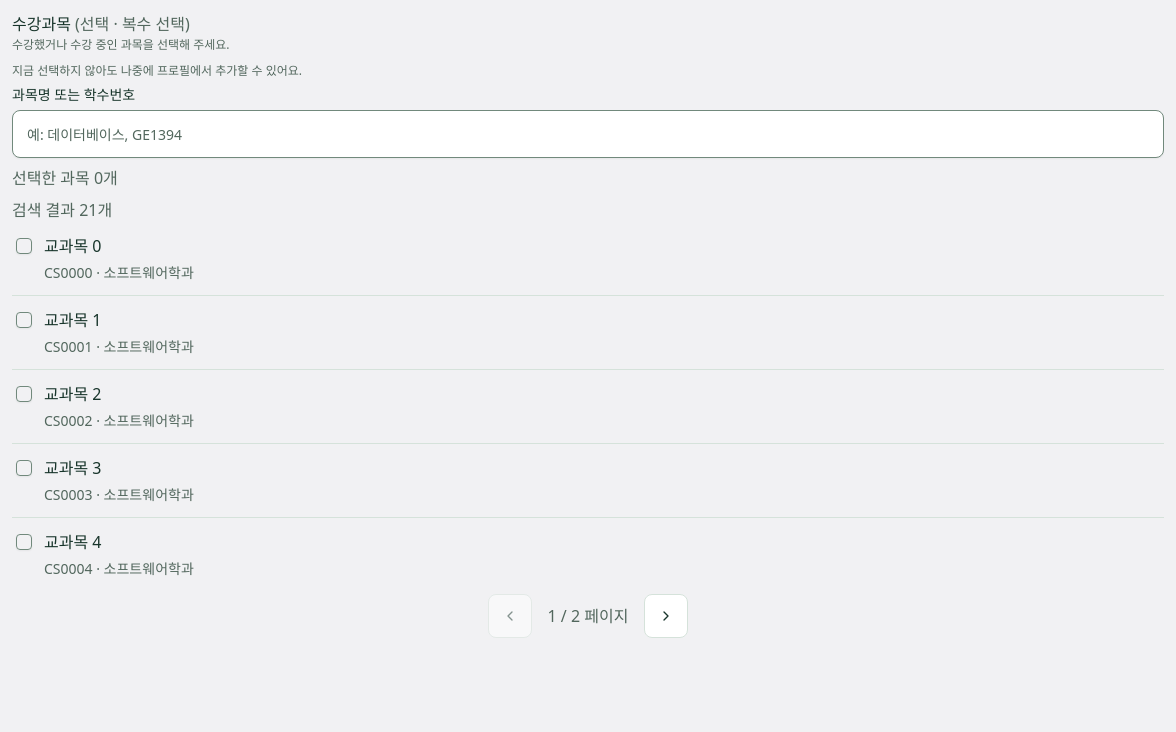
Test: course selection › keeps selection visible when search has no results
Click the checkbox named "교과목 0 (CS0000)" at (24,246), box [16, 238, 32, 254]
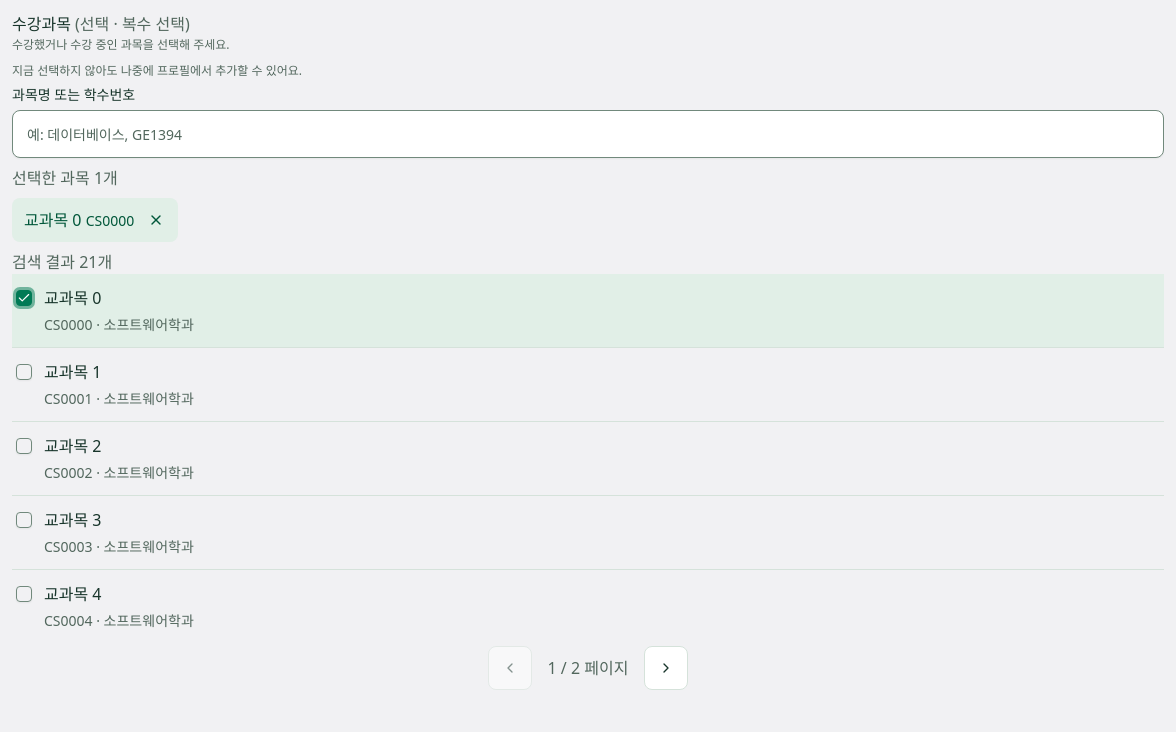
Click the search field at (588,134), box [12, 110, 1164, 158]
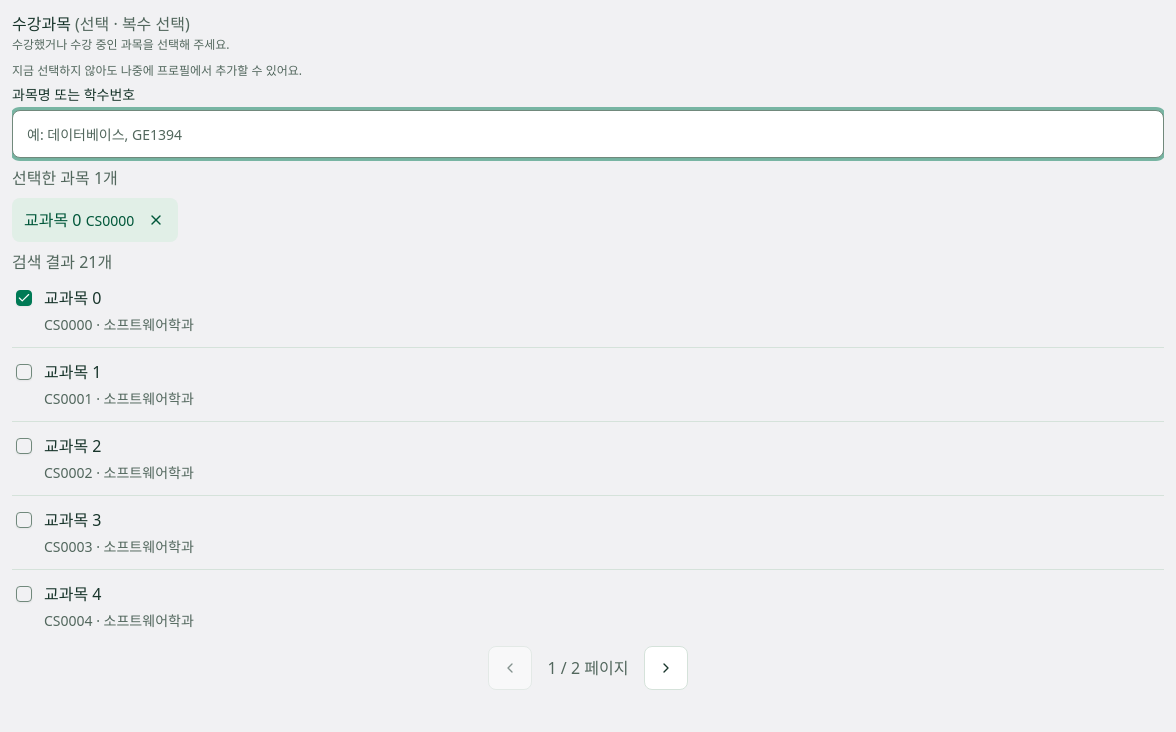
Type keys "없는과목"
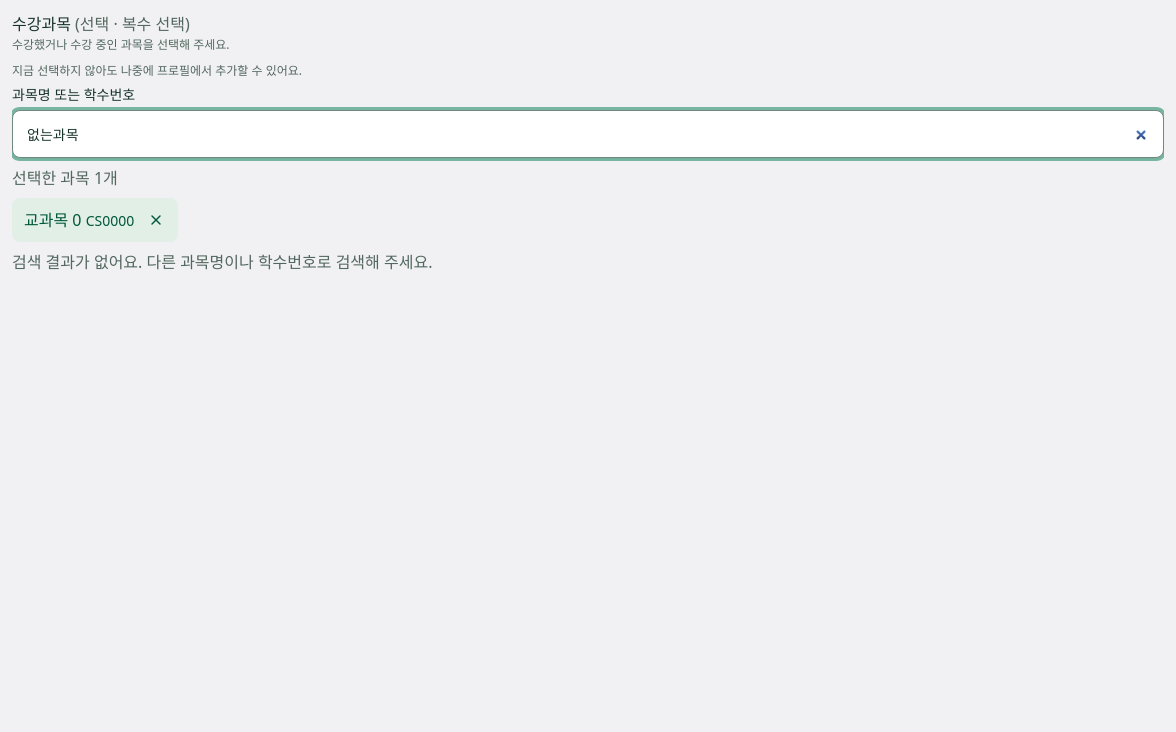
Check: the button named "교과목 0 (CS0000) 선택 해제" is shown, box [134, 198, 178, 242]
Check: the text "검색 결과가 없어요. 다른 과목명이나 학수번호로 검색해 주세요." is shown, box [12, 251, 432, 273]
